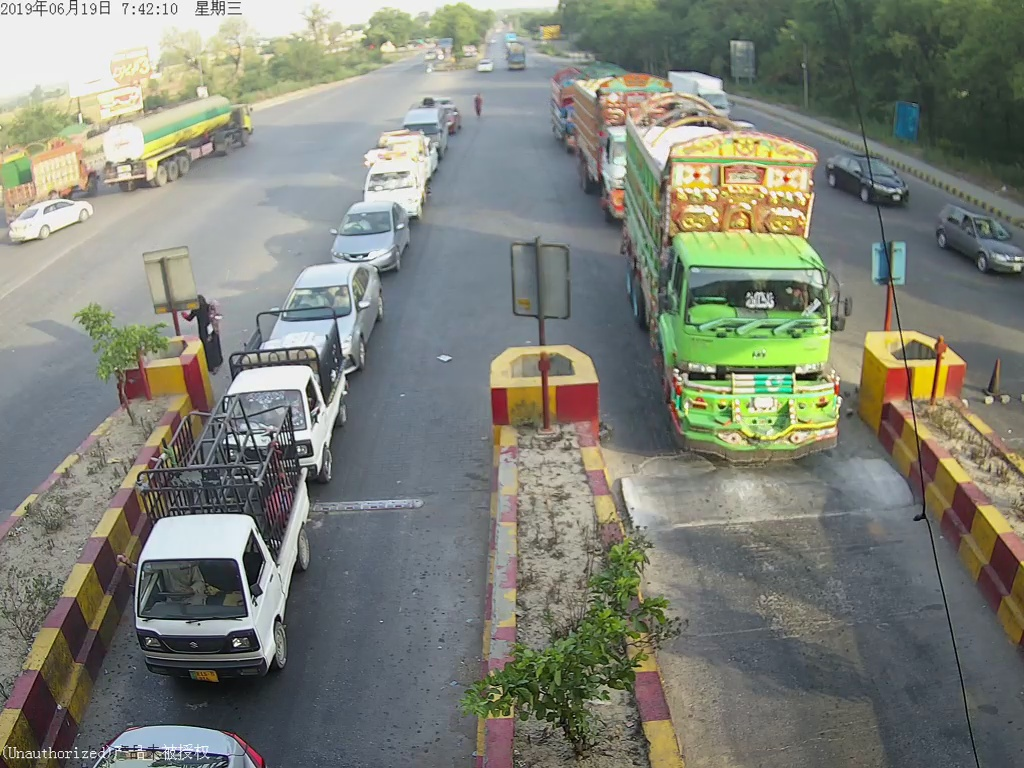Cat-1: (134, 412, 319, 686)
Cat-4: (614, 102, 838, 480)
